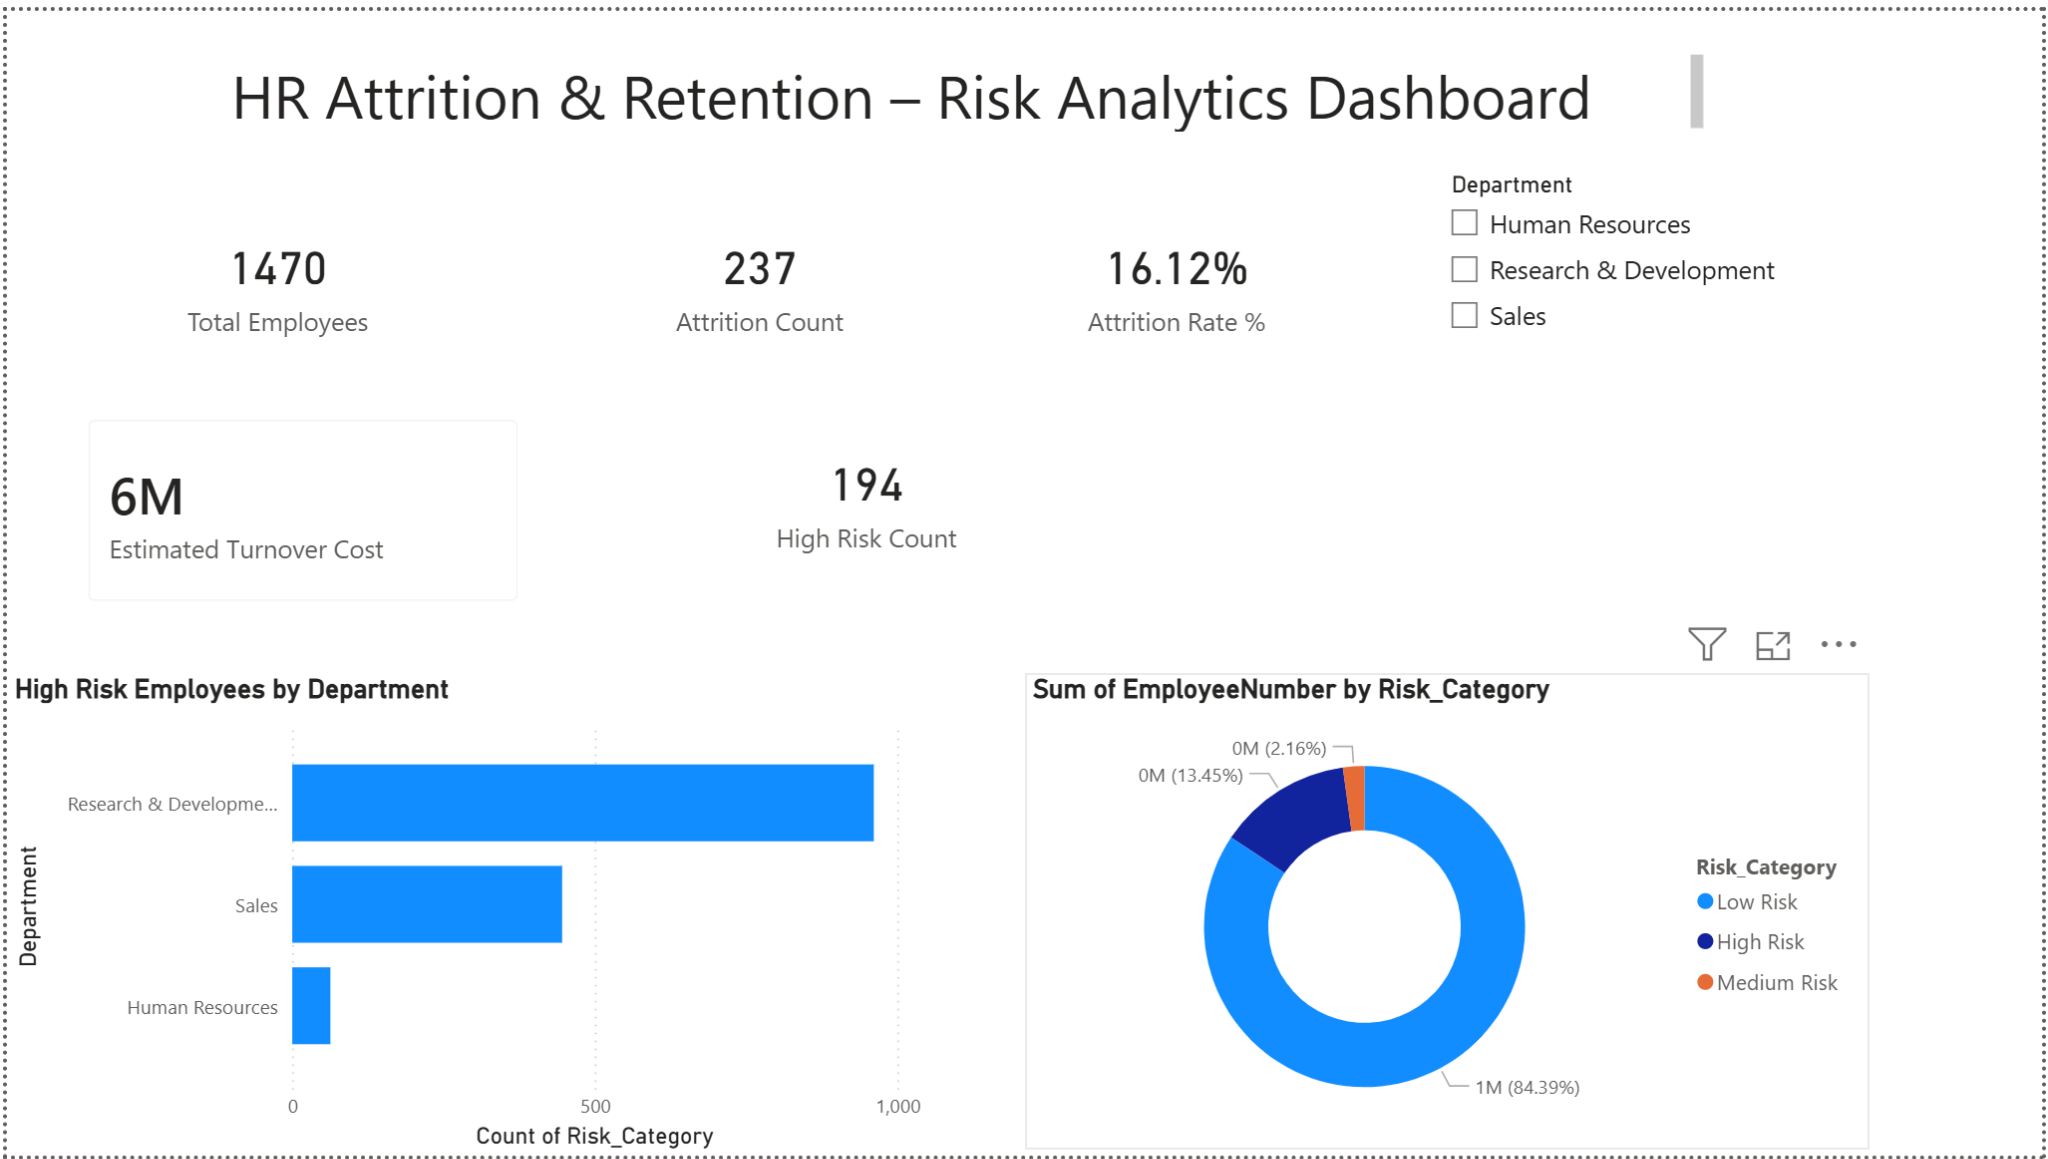

This screenshot's page, from the dashboard's own definition file:
{"tool":"powerbi","page":{"name":"Page 1","canvas":[1280,720],"ordinal":0},"visuals":[{"type":"card","fields":{"Values":["hr_attrition_final.Total Employees"]},"box":[34,96,272,150],"z":0},{"type":"card","fields":{"Values":["hr_attrition_final.Attrition Count"]},"box":[344,96,260,150],"z":1},{"type":"card","fields":{"Values":["hr_attrition_final.Attrition Rate %","select"]},"box":[604,96,262,150],"z":2},{"type":"card","fields":{"Values":["hr_attrition_final.High Risk Count"]},"box":[402,226,278,162],"z":3},{"type":"textbox","box":[136,22,936,58],"z":4},{"type":"barChart","title":"High Risk Employees by Department","fields":{"Category":["hr_attrition_final.Department"],"Y":["CountNonNull(hr_attrition_final.Risk_Category)"]},"box":[0,416,580,304],"z":5},{"type":"donutChart","fields":{"Y":["Sum(hr_attrition_final.EmployeeNumber)"],"Category":["hr_attrition_final.Risk_Category"]},"box":[640,416,532,300],"z":6},{"type":"cardVisual","fields":{"Data":["hr_attrition_final.Estimated Turnover Cost"]},"box":[34,240,304,148],"z":7},{"type":"slicer","fields":{"Values":["hr_attrition_final.Department"]},"box":[896,96,276,170],"z":8}]}

Visuals, with their boxes in screenshot pixels (x1, y1, x2, y2), scaled from the page's 1280x720 canvas onto the 2048x1159 screenshot:
card - hr_attrition_final.Total Employees: crop(54, 155, 490, 396)
card - hr_attrition_final.Attrition Count: crop(550, 155, 966, 396)
card - hr_attrition_final.Attrition Rate % x select: crop(966, 155, 1386, 396)
card - hr_attrition_final.High Risk Count: crop(643, 364, 1088, 625)
textbox: crop(218, 35, 1715, 129)
"High Risk Employees by Department" barChart: crop(0, 670, 928, 1158)
donutChart - Sum(hr_attrition_final.EmployeeNumber) x hr_attrition_final.Risk_Category: crop(1024, 670, 1875, 1153)
cardVisual - hr_attrition_final.Estimated Turnover Cost: crop(54, 386, 541, 625)
slicer - hr_attrition_final.Department: crop(1434, 155, 1875, 428)
